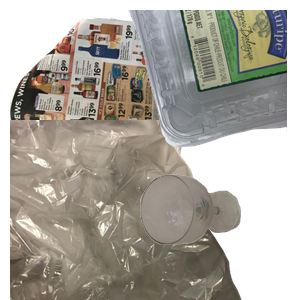glass: (138, 172, 300, 300)
paper: (10, 15, 196, 195)
plastic: (60, 10, 300, 149)
trash: (10, 120, 244, 300)
